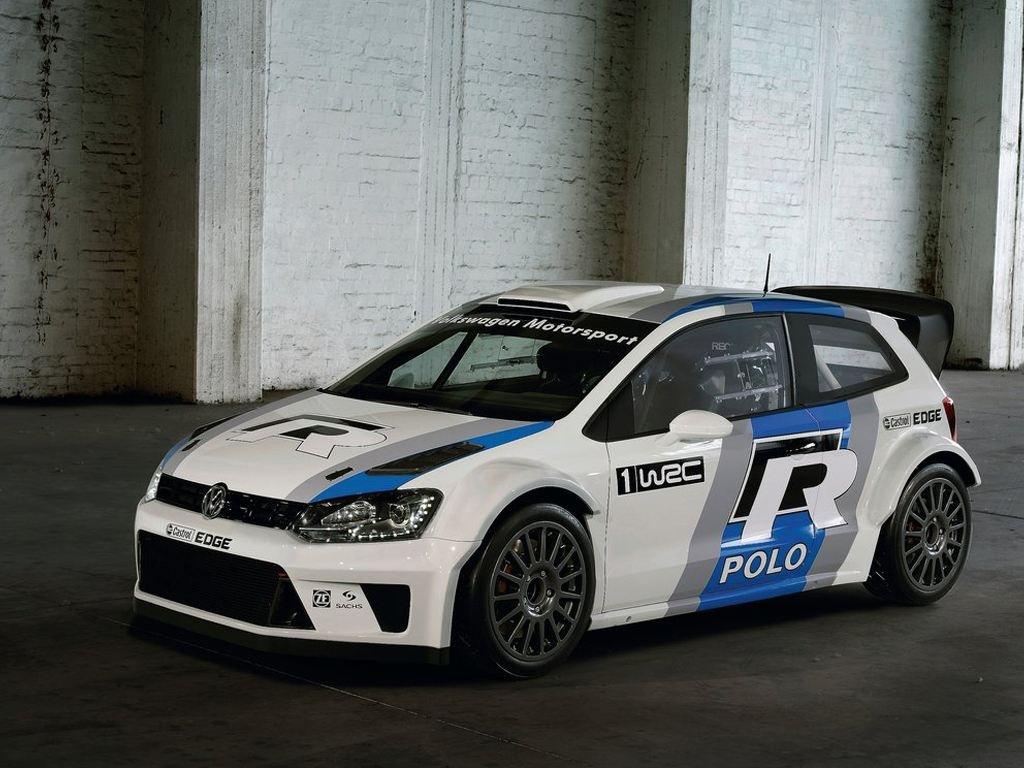racing car: (132, 265, 976, 667)
